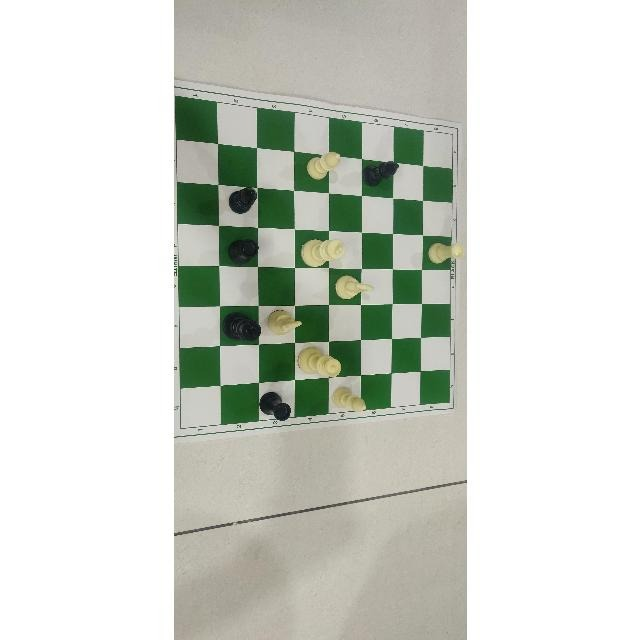black-bishop: (360, 158, 404, 189), (226, 185, 258, 215)
black-king: (221, 312, 261, 342)
black-rook: (257, 385, 295, 429), (225, 238, 261, 266)
white-bishop: (305, 151, 349, 181), (327, 385, 369, 413)
white-king: (298, 238, 350, 266)
white-knight: (334, 270, 379, 304), (266, 305, 303, 336)
white-queen: (294, 342, 342, 377)
white-rook: (424, 243, 466, 268)
